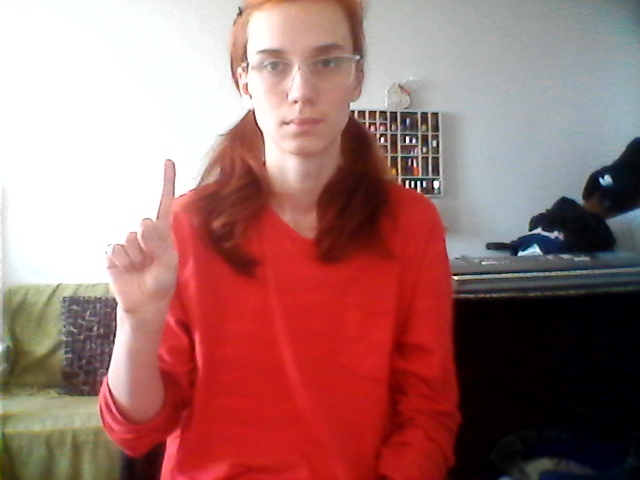i: (80, 144, 204, 310)
